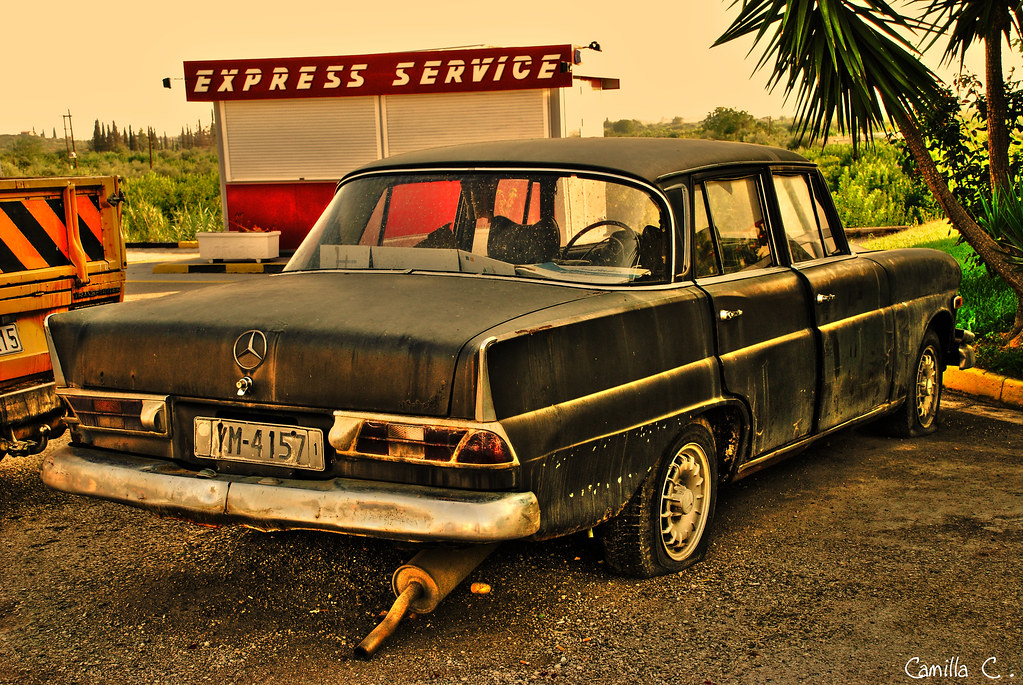car: (18, 111, 983, 618)
